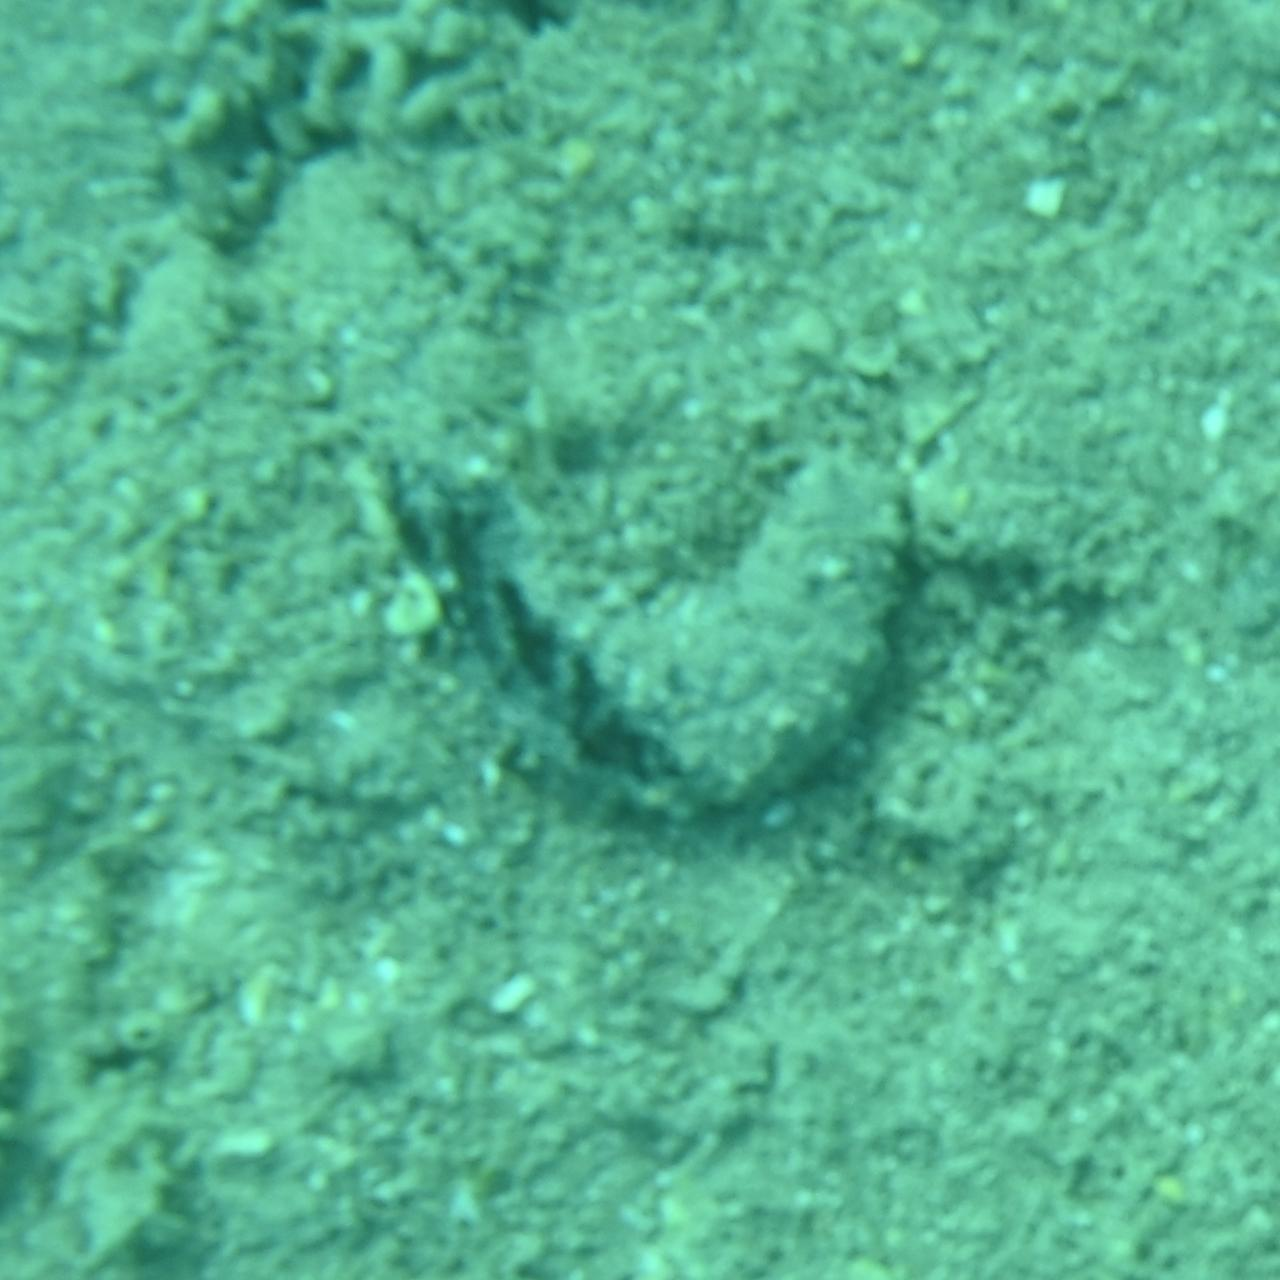Holothuria tubulosa: (342, 438, 938, 842)
